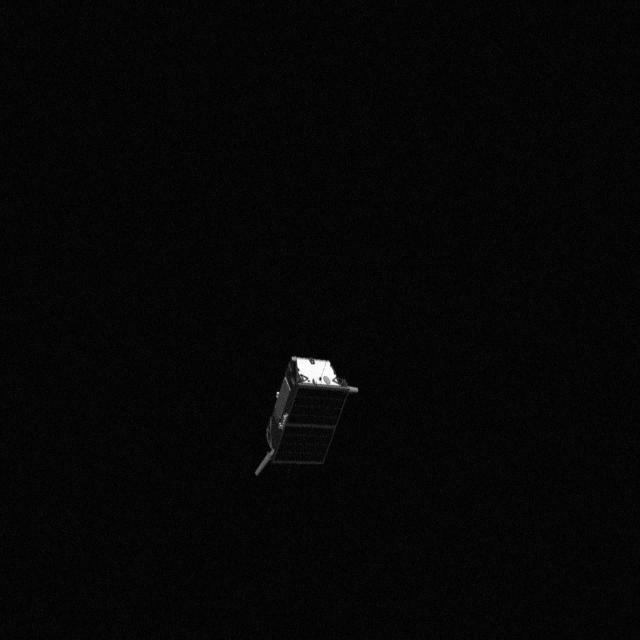medium_debris: (252, 348, 362, 488)
